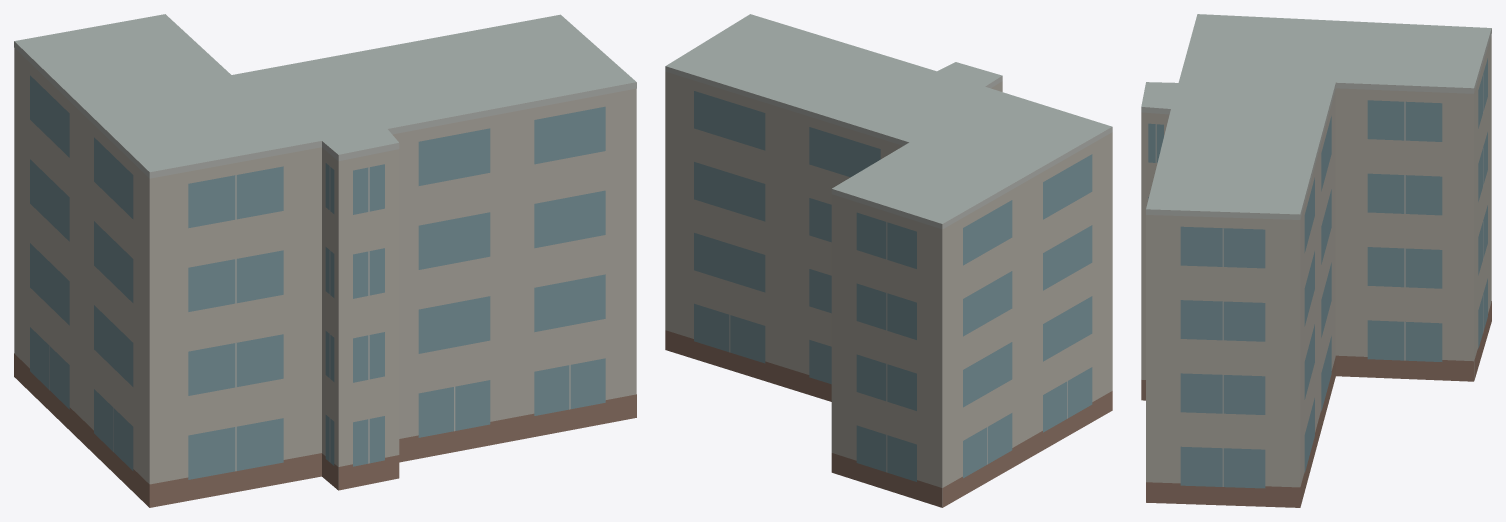
Rendered from survey-upis-32922091.glb.
The picture shows the model from 3 angles, left to right: view 1: azimuth 30°, elevation 25°; view 2: azimuth 150°, elevation 25°; view 3: azimuth 270°, elevation 25°; orthographic projection. The views are drawn at different scales.
Visible parts, largest first — view 1: survey-upis-32922091.tmp; view 2: survey-upis-32922091.tmp; view 3: survey-upis-32922091.tmp.
Part boxes in pixels (x1,y1,x2,y2): survey-upis-32922091.tmp: (14,14,636,507); survey-upis-32922091.tmp: (665,14,1112,507); survey-upis-32922091.tmp: (1141,14,1491,507).
Bounding box in the file's own units: 18.77 × 12.8 × 13.87.
